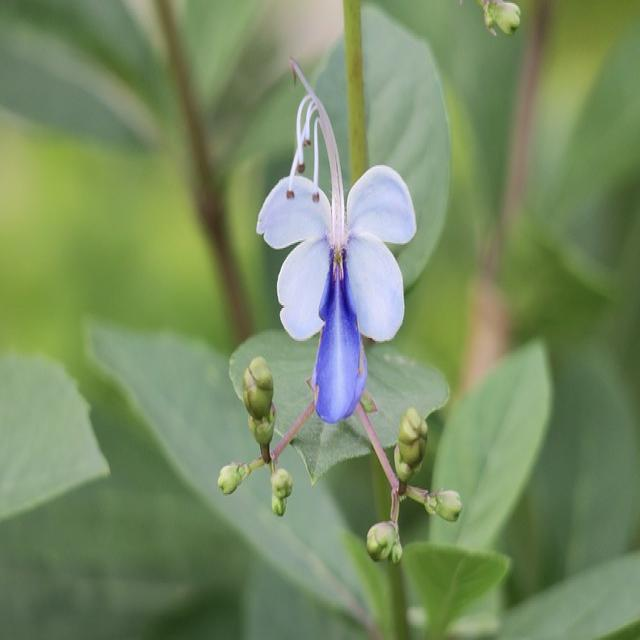butterfly: (255, 54, 417, 424)
